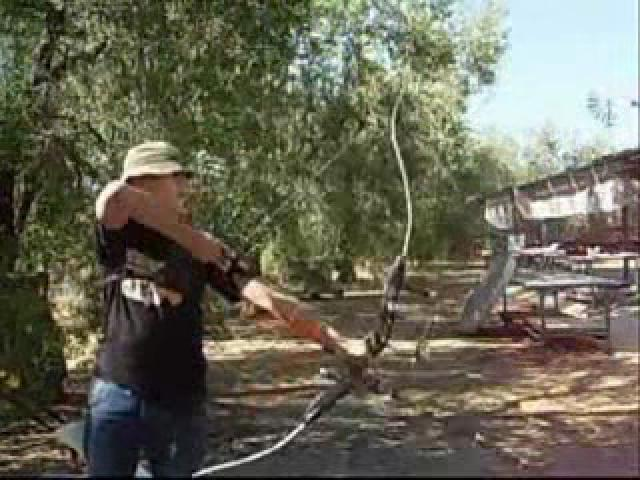I: (53, 130, 362, 480)
